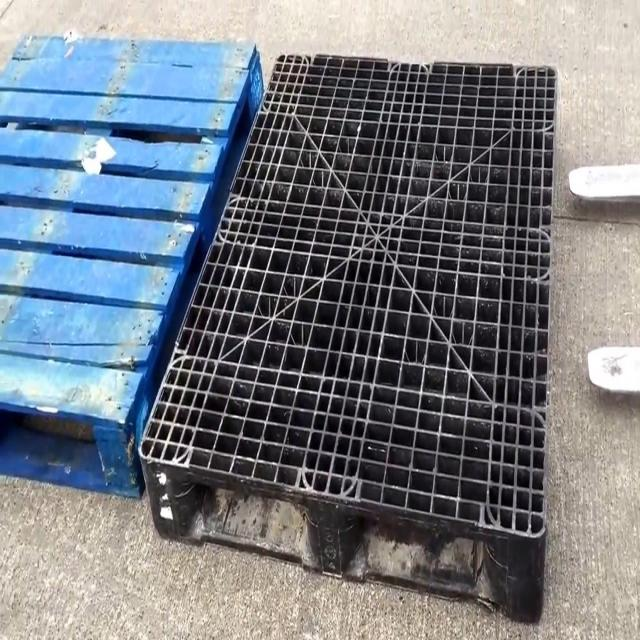Palette: (134, 41, 558, 640), (0, 16, 262, 523)
